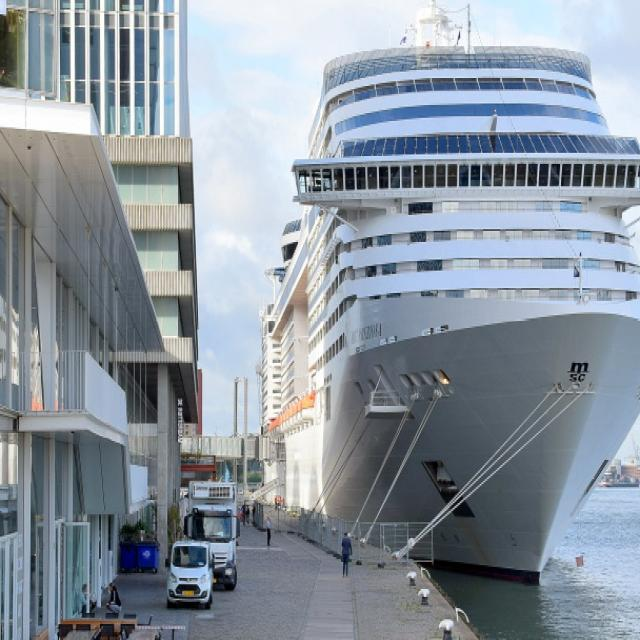cruises: (255, 1, 640, 601)
